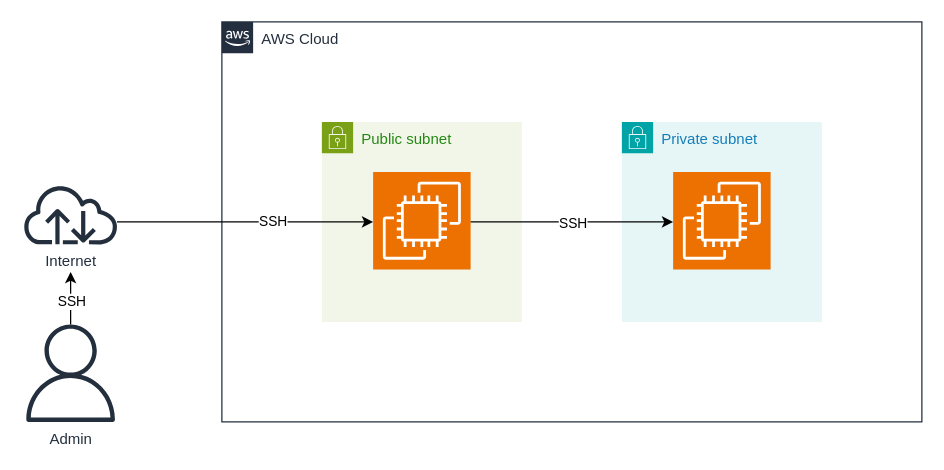
The diagram is 944 pixels wide and 470 high, and some of its shapes have lost their labels. Here are the shapes that lost their labels. From the top down, the centre of each, then its label:
At [421,220]: "Bastion Host".
At [721,220]: "Private Server".
